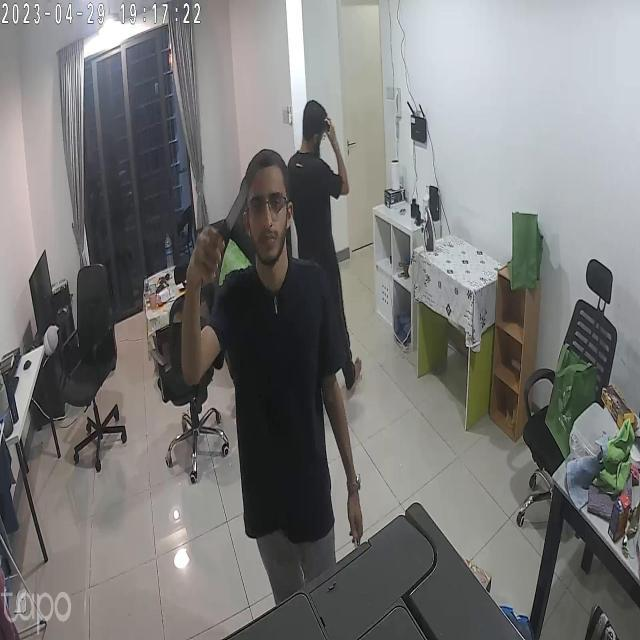Knife: (211, 174, 252, 231)
